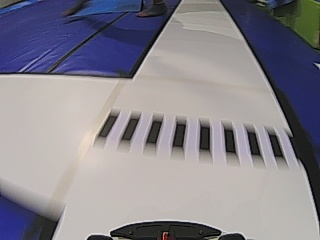CrossWalk: (94, 112, 286, 158)
